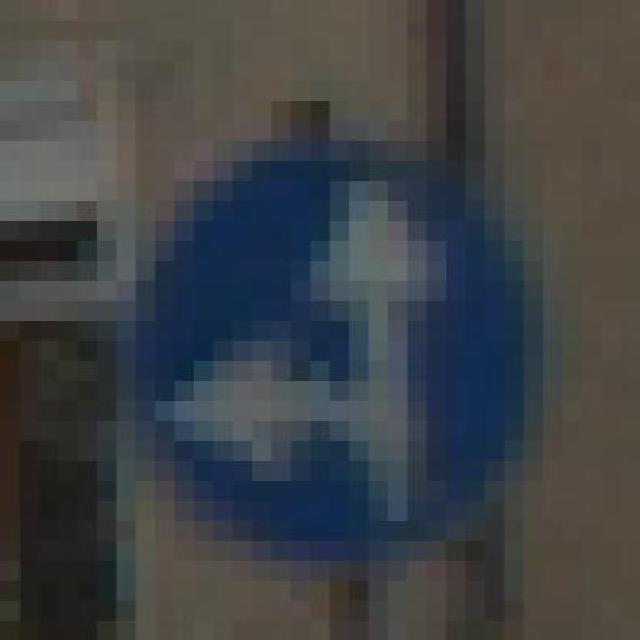Go straight or turn left: (78, 80, 562, 600)
